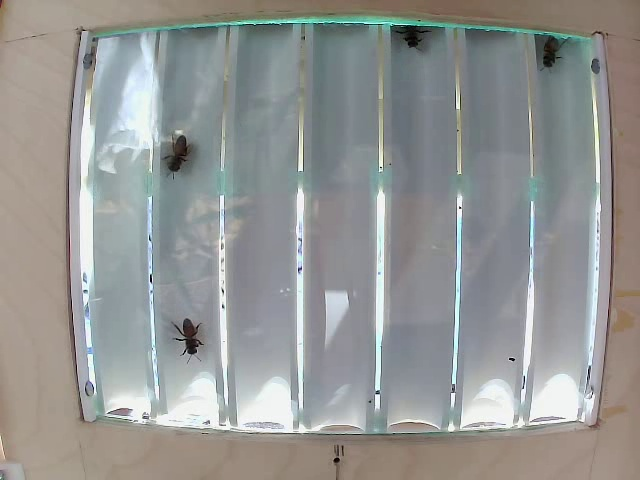bee: (166, 303, 215, 361), (149, 128, 199, 171)
